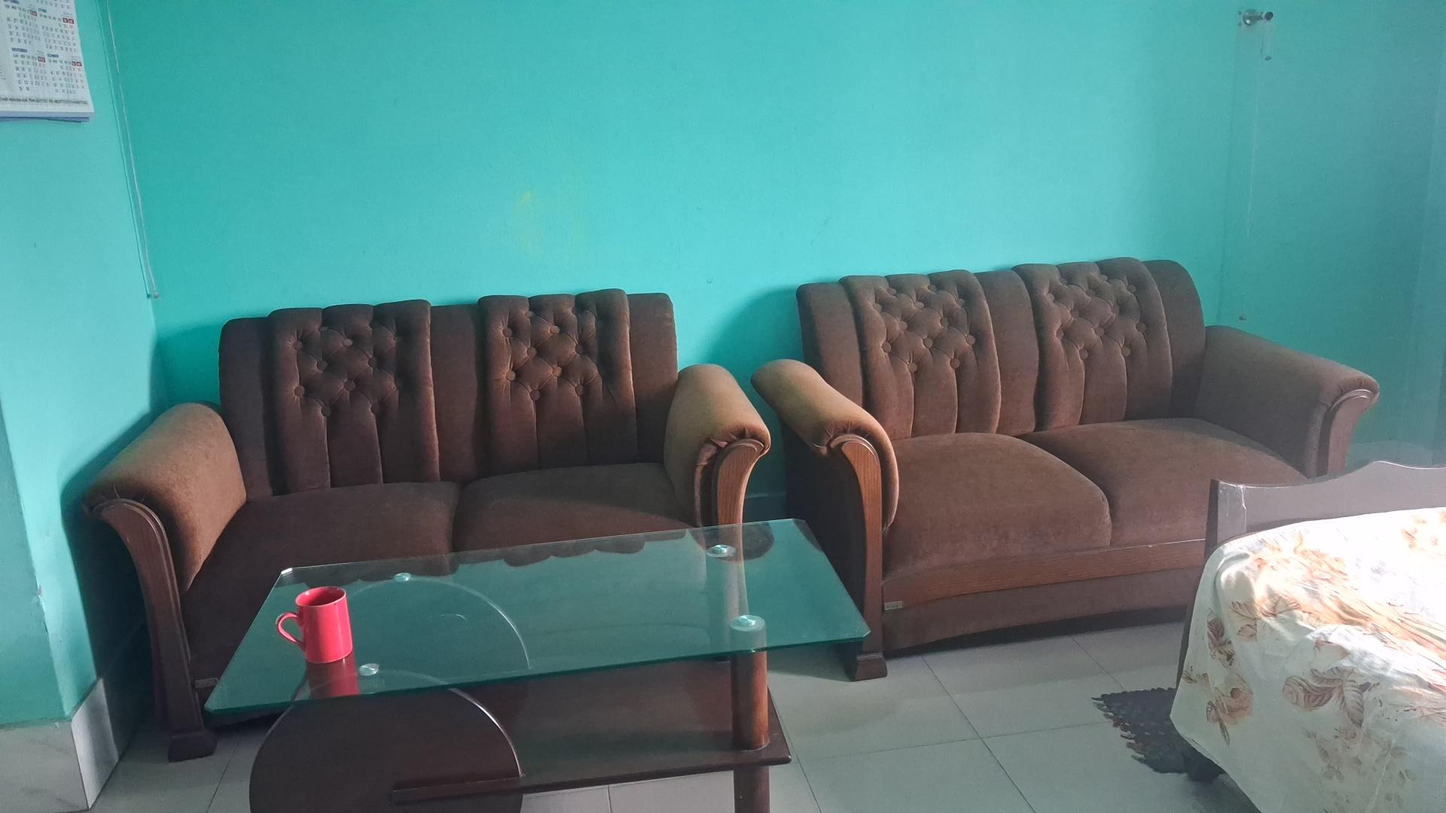Mug: (278, 585, 360, 670)
Table: (202, 512, 874, 806), (536, 505, 542, 516)
